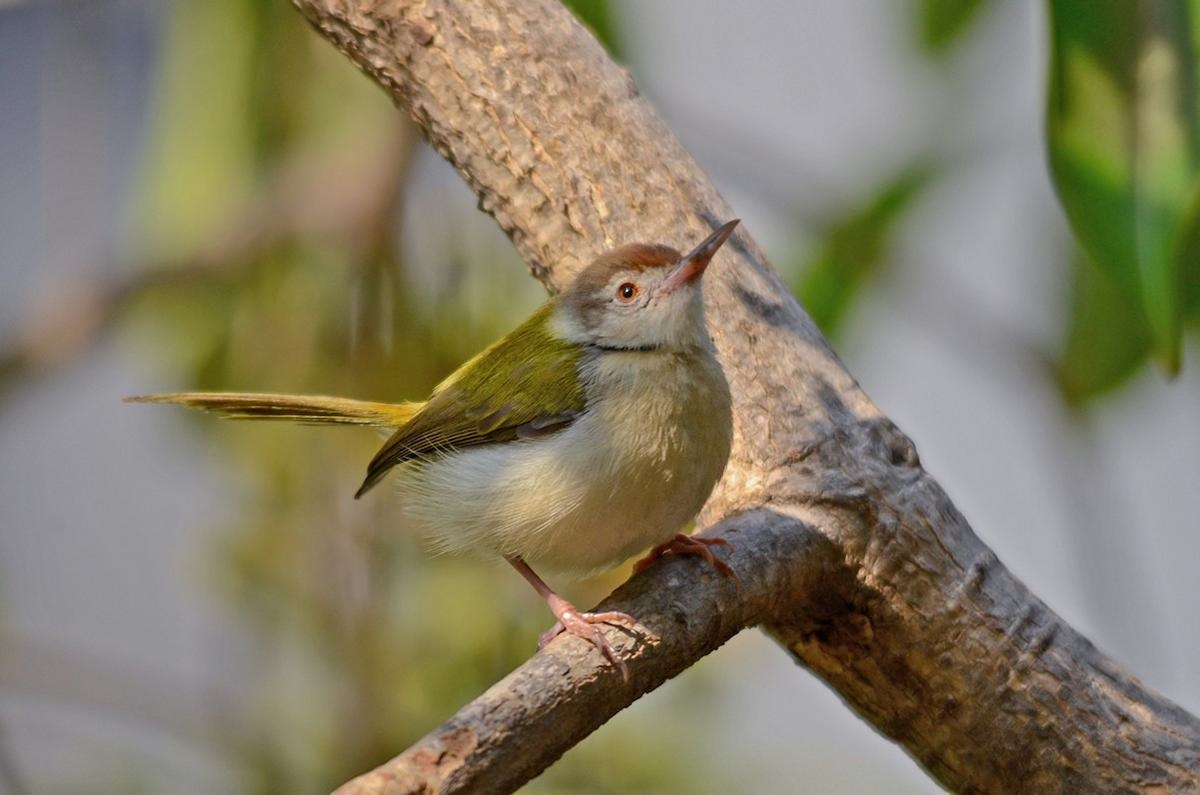tailorbird: (205, 182, 797, 681)
